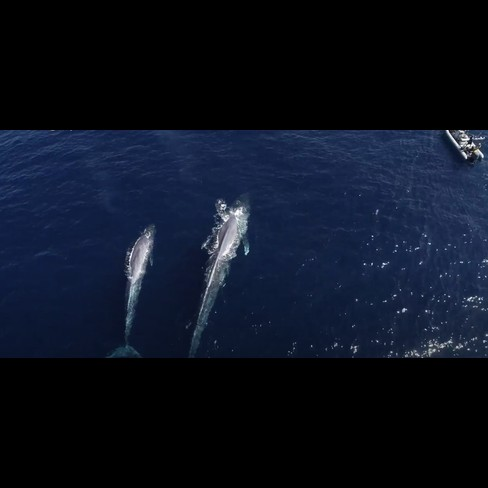bluewhale: (187, 188, 254, 361), (103, 219, 164, 359)
